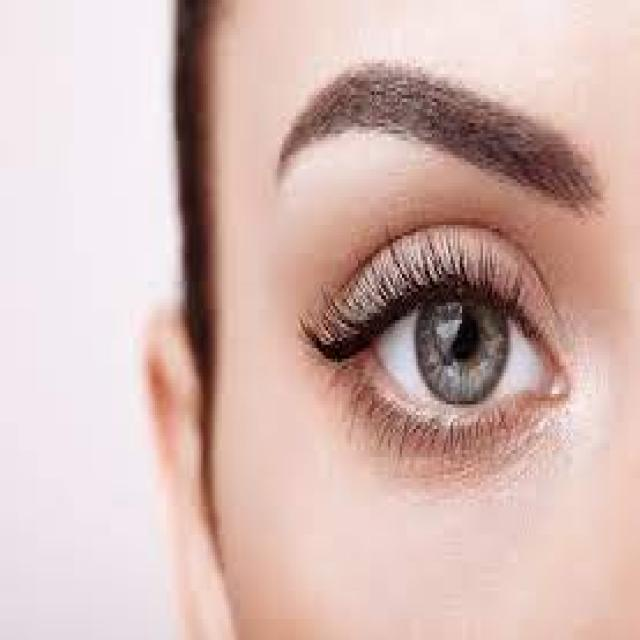Eyes-iris: (413, 271, 512, 412)
